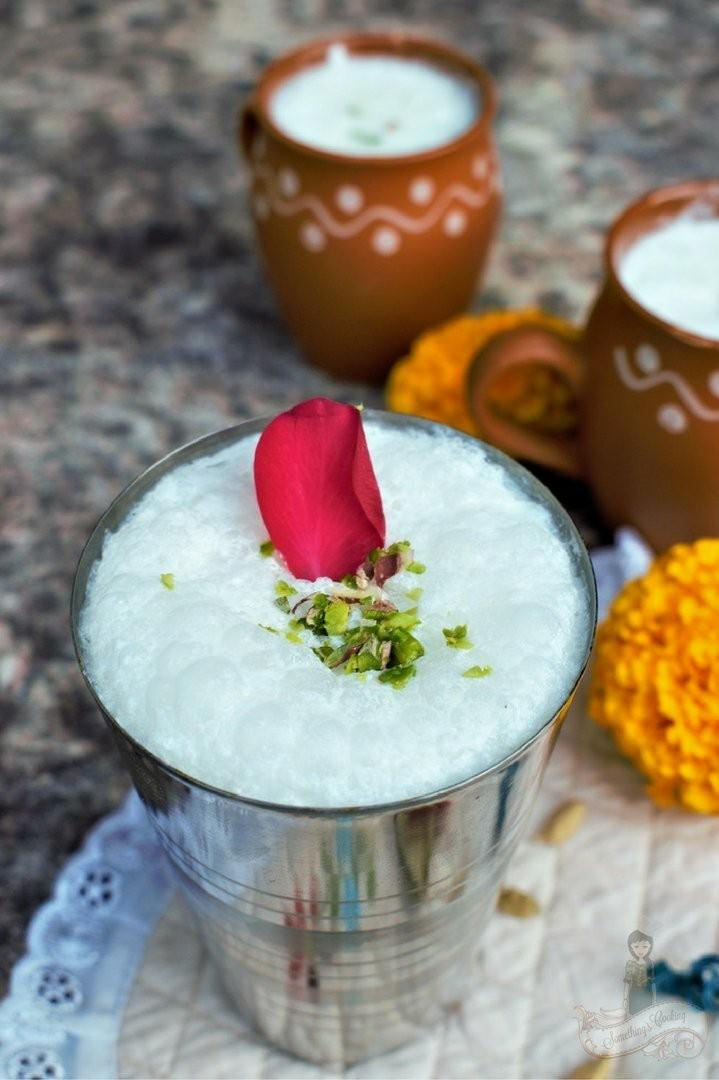Lassi: (80, 419, 591, 808), (264, 59, 478, 160), (623, 218, 719, 341)
